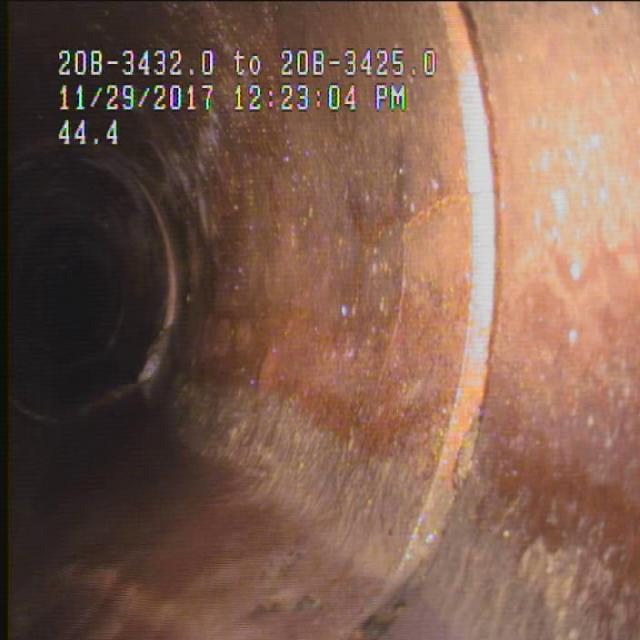Crack: (342, 185, 482, 280)
